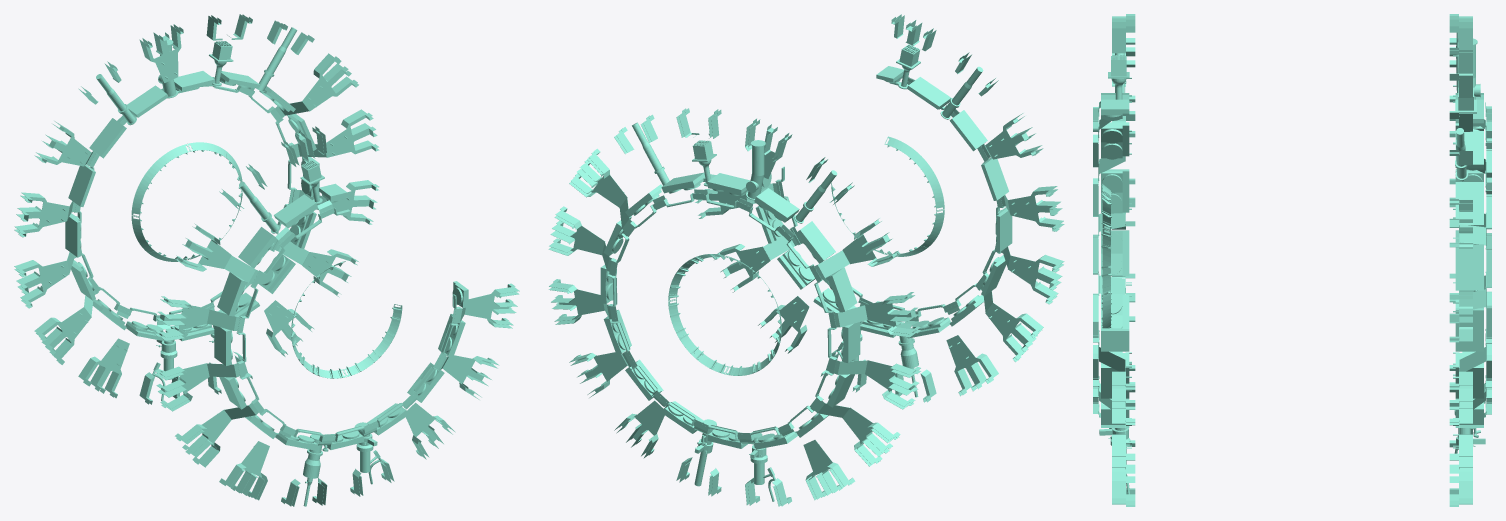
File: Gap-region-serv-cut4.glb
3 renders of one model, left to right at view 1: azimuth 30°, elevation 25°; view 2: azimuth 150°, elevation 25°; view 3: azimuth 270°, elevation 25°, orthographic. The views are drawn at different scales.
Visible parts, largest first — view 1: cabl tray.001, el box.001, inlet outlet.001, Lar Pump.001, The Unnit.001, Lar Drin.001; view 2: cabl tray.001, el box.001, inlet outlet.001, The Unnit.001, Lar Pump.001, Safety Line.001, Lar Drin.001, Lar by pas.001; view 3: cabl tray.001, el box.001, The Unnit.001, inlet outlet.001.
Part boxes in pixels (x1=…): cabl tray.001: x1=14, y1=14, x2=519, y2=506; el box.001: x1=65, y1=71, x2=468, y2=450; inlet outlet.001: x1=96, y1=27, x2=297, y2=233; Lar Pump.001: x1=152, y1=328, x2=381, y2=484; The Unnit.001: x1=209, y1=41, x2=324, y2=204; Lar Drin.001: x1=303, y1=434, x2=328, y2=506; cabl tray.001: x1=548, y1=14, x2=1064, y2=506; el box.001: x1=600, y1=66, x2=1012, y2=449; inlet outlet.001: x1=632, y1=66, x2=983, y2=223; The Unnit.001: x1=692, y1=44, x2=920, y2=186; Lar Pump.001: x1=749, y1=321, x2=862, y2=501; Safety Line.001: x1=746, y1=140, x2=765, y2=200; Lar Drin.001: x1=897, y1=323, x2=918, y2=397; Lar by pas.001: x1=694, y1=419, x2=716, y2=486; cabl tray.001: x1=1093, y1=14, x2=1491, y2=506; el box.001: x1=1101, y1=93, x2=1483, y2=427; The Unnit.001: x1=1108, y1=55, x2=1476, y2=113; inlet outlet.001: x1=1113, y1=32, x2=1468, y2=180.
Bounding box in the file's own units: 8.64 × 8.64 × 7.01.
